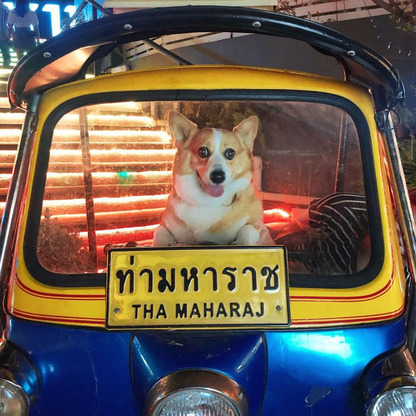Corgi: (144, 111, 297, 254)
